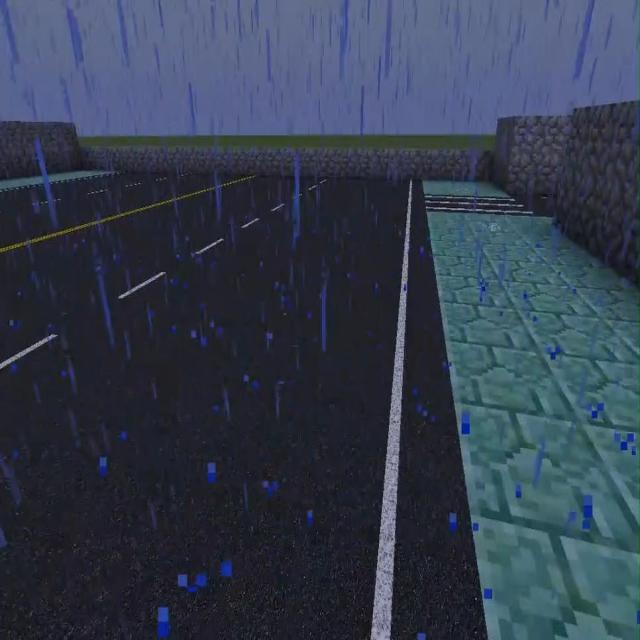8: (426, 197, 540, 216)
crosswalk: (0, 176, 487, 639), (517, 195, 557, 216)
road: (432, 215, 639, 639), (0, 171, 116, 191), (423, 181, 512, 197)
